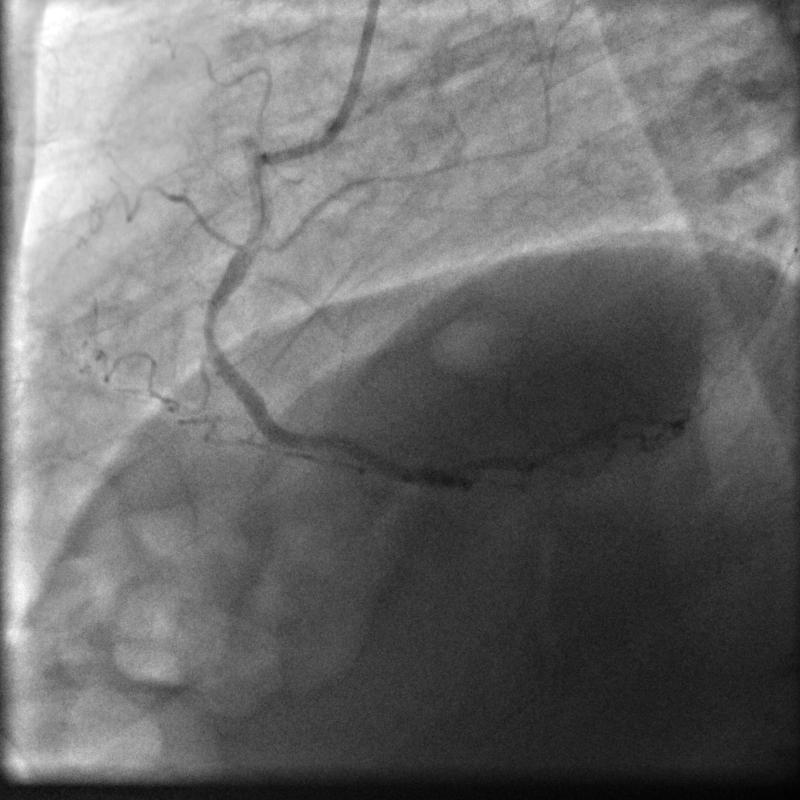Stenosis: (197, 315, 226, 344)
